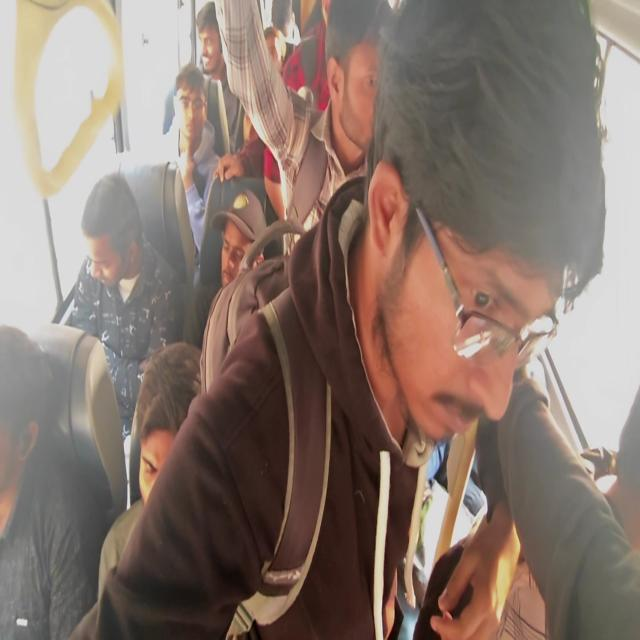person: (402, 29, 570, 454), (139, 369, 218, 548), (324, 16, 394, 171), (81, 186, 148, 298), (0, 327, 33, 491), (222, 208, 269, 298), (173, 69, 209, 162), (196, 17, 240, 86), (261, 32, 293, 83), (237, 110, 264, 167), (269, 0, 299, 39)
